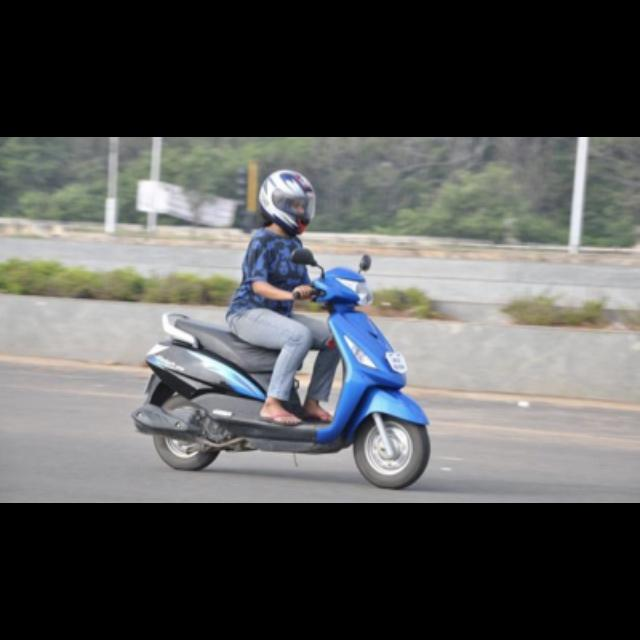With Helmet: (258, 163, 320, 243)
